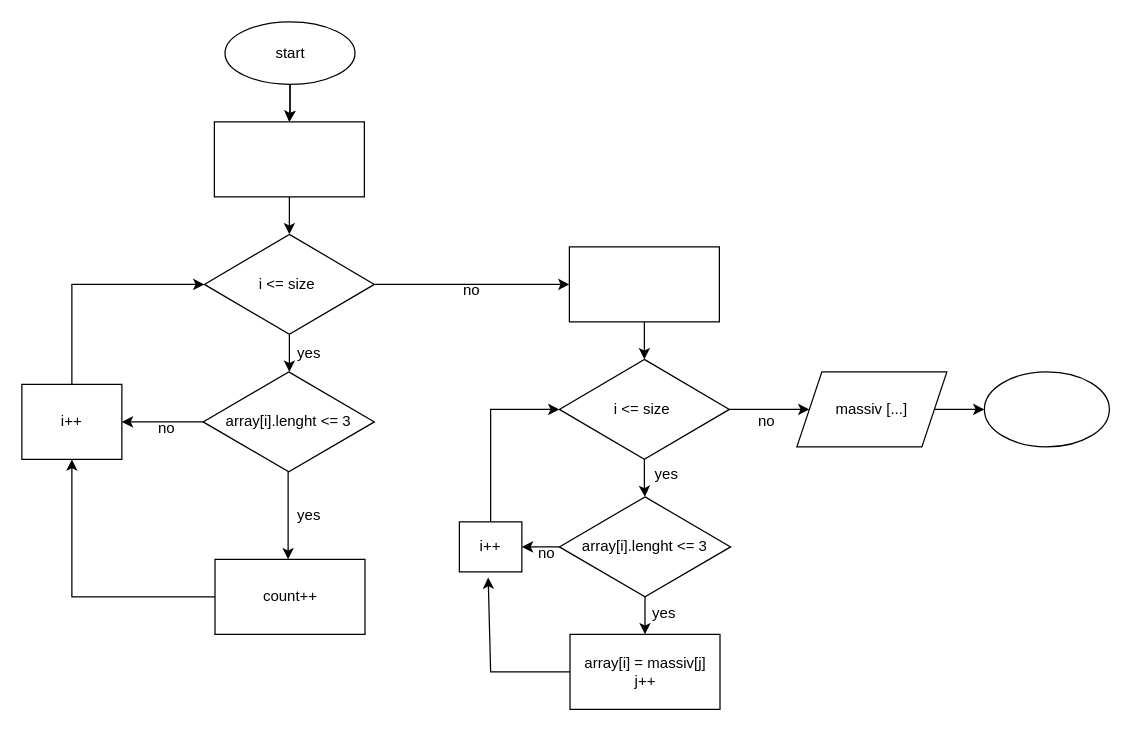
Some shapes in this 1131 by 731 pixel diagram are drawn without their labels. Each missing label, with the centre of its shape:
array = [ ] size = 10 i = 0 count = 0: pixel 288 159
end: pixel 1046 409
massiv = [] size = count j=0: pixel 643 284
